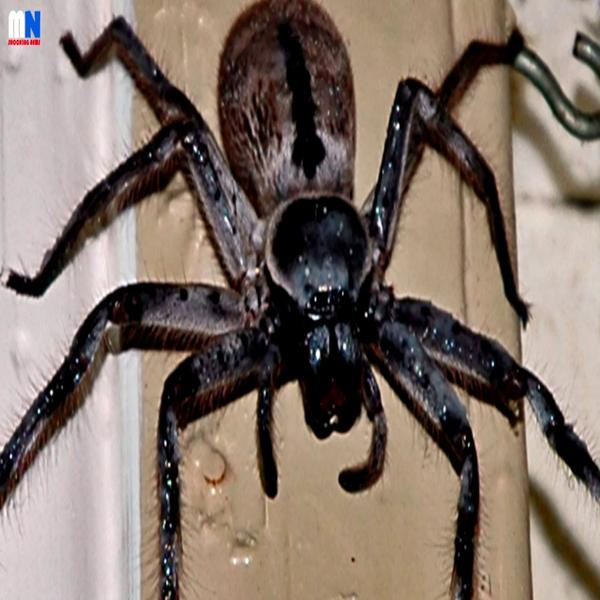Huntsman Spider: (12, 9, 592, 579)
